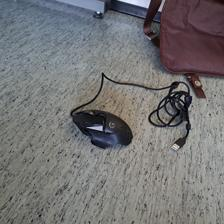mouse: (72, 109, 134, 150)
